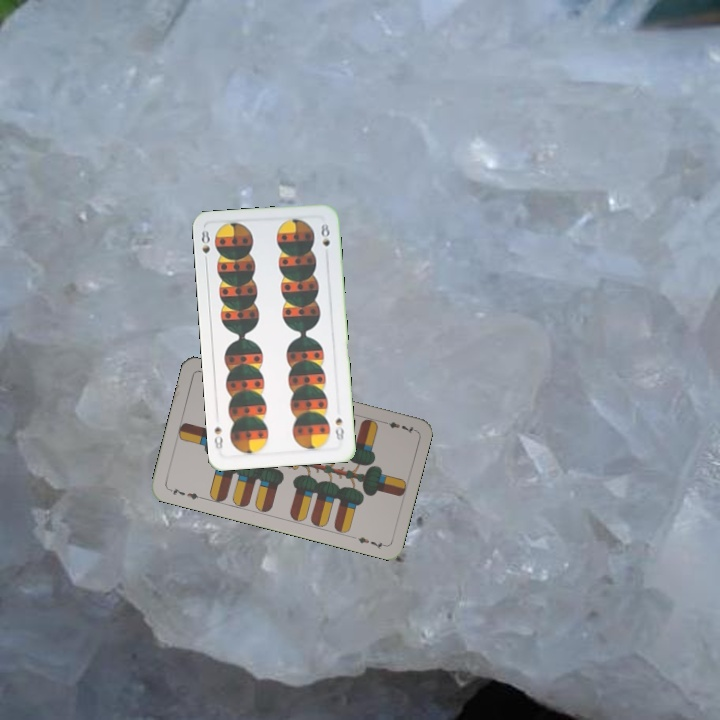E7: (377, 416, 417, 436), (164, 483, 204, 502)
S8: (197, 226, 212, 267), (331, 414, 346, 443)
